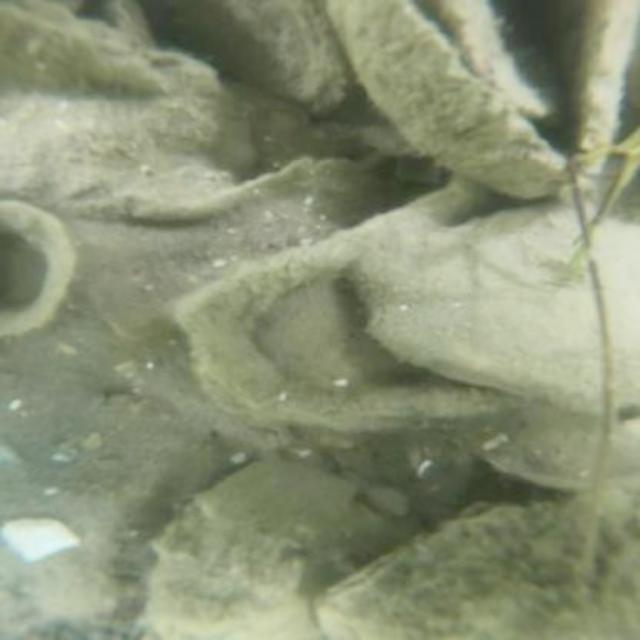Oyster-Closed: (170, 175, 573, 434), (359, 203, 638, 409), (316, 461, 636, 636), (136, 459, 356, 638), (4, 49, 235, 197), (169, 0, 360, 113), (436, 0, 570, 132), (0, 0, 175, 93), (617, 405, 638, 441)
Oyster-Open: (330, 0, 638, 200)
